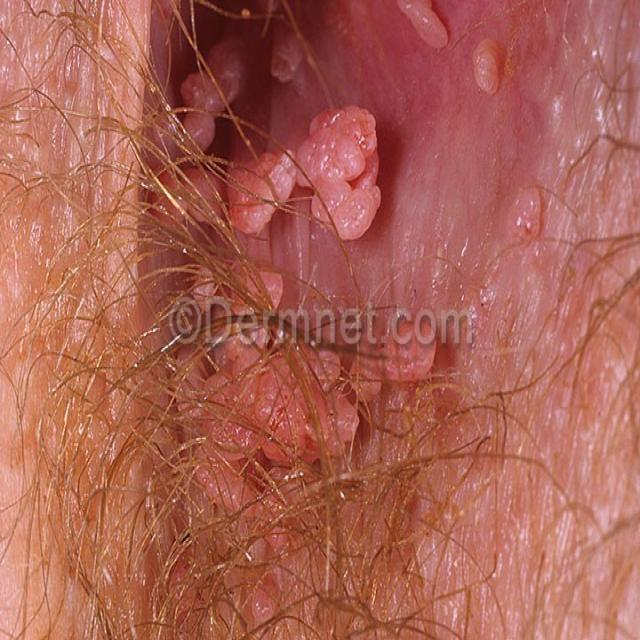Shingles: (140, 0, 538, 483)
